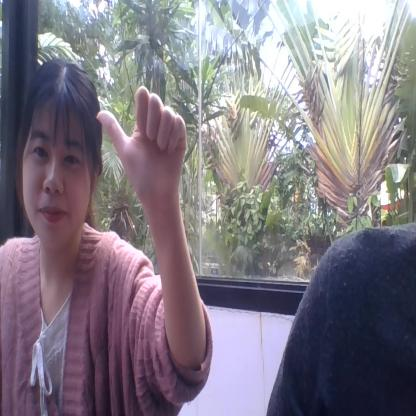right: (96, 85, 188, 210)
